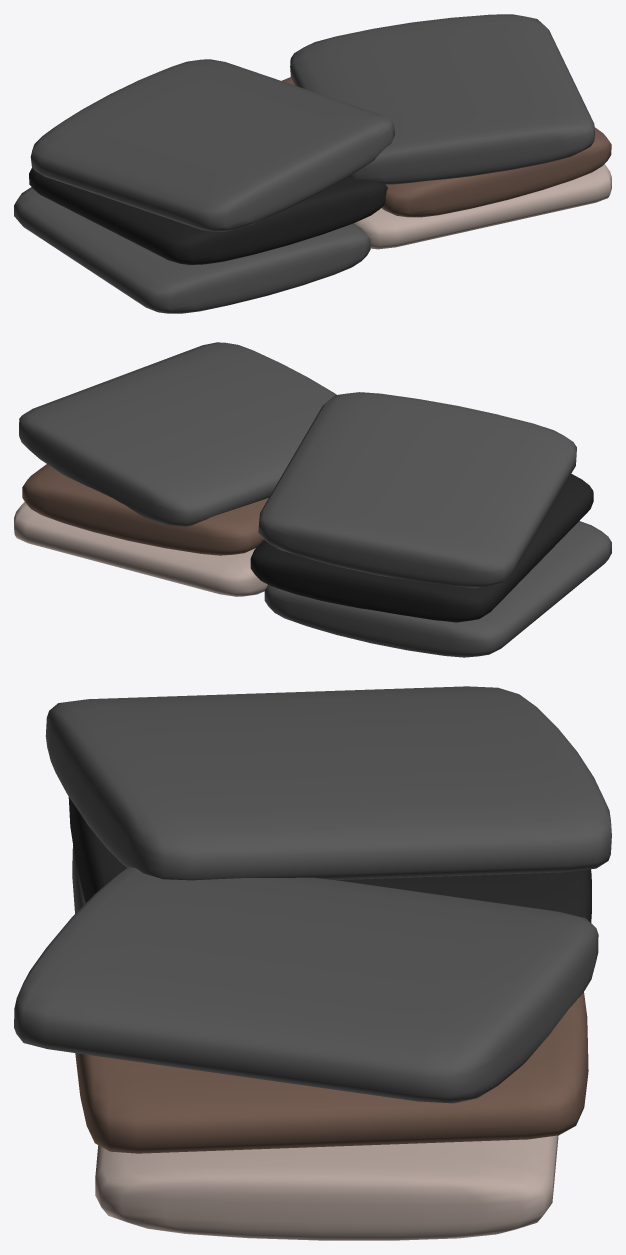
Rendered from Pile of things.fbx.
The picture shows the model from 3 angles, top to bottom: view 1: azimuth 30°, elevation 25°; view 2: azimuth 150°, elevation 25°; view 3: azimuth 270°, elevation 25°; orthographic projection. The views are drawn at different scales.
Parts seen in each view (by area): view 1: Thing5, Thing4, Thing, Thing3, Thing2, Thing1; view 2: Thing5, Thing4, Thing, Thing3, Thing2, Thing1; view 3: Thing4, Thing5, Thing1, Thing2, Thing3.
Part boxes in pixels (bbox=[...]): Thing5: bbox=[30, 59, 394, 231]; Thing4: bbox=[290, 14, 594, 184]; Thing: bbox=[14, 187, 370, 313]; Thing3: bbox=[29, 168, 387, 264]; Thing2: bbox=[281, 77, 611, 217]; Thing1: bbox=[354, 164, 611, 249]; Thing5: bbox=[258, 392, 576, 588]; Thing4: bbox=[19, 342, 336, 526]; Thing: bbox=[264, 521, 611, 657]; Thing3: bbox=[250, 474, 593, 622]; Thing2: bbox=[22, 464, 268, 555]; Thing1: bbox=[14, 502, 267, 596]; Thing4: bbox=[14, 866, 598, 1103]; Thing5: bbox=[45, 686, 611, 880]; Thing1: bbox=[95, 1135, 558, 1240]; Thing2: bbox=[75, 992, 588, 1153]; Thing3: bbox=[68, 797, 591, 922].
Bounding box in the file's own units: 1.43 × 0.3536 × 0.8531.
